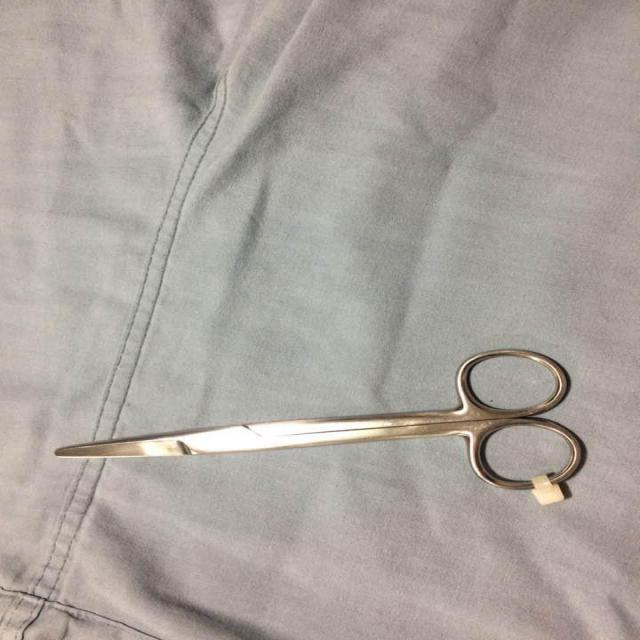Mayo_metz: (48, 344, 590, 497)
